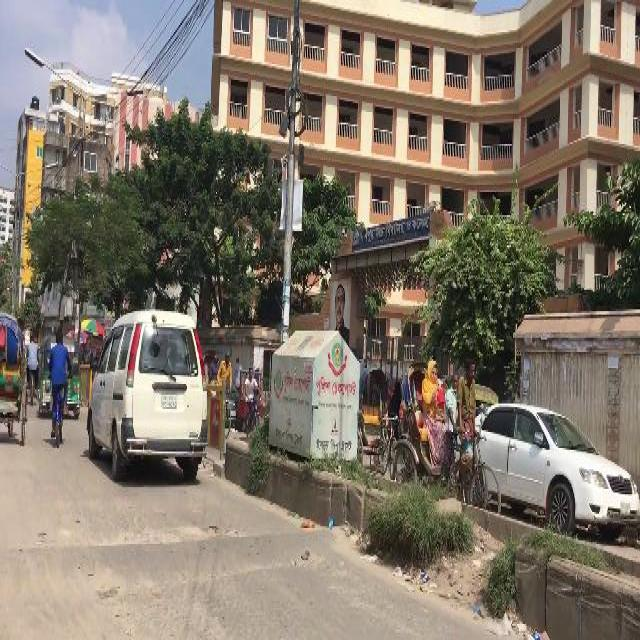bike: (50, 332, 71, 446), (246, 366, 263, 436), (28, 336, 39, 406)
vehicle: (482, 399, 638, 536), (89, 309, 204, 479), (391, 358, 502, 508), (360, 362, 399, 472), (39, 333, 81, 419), (2, 314, 27, 445), (204, 351, 232, 438)
